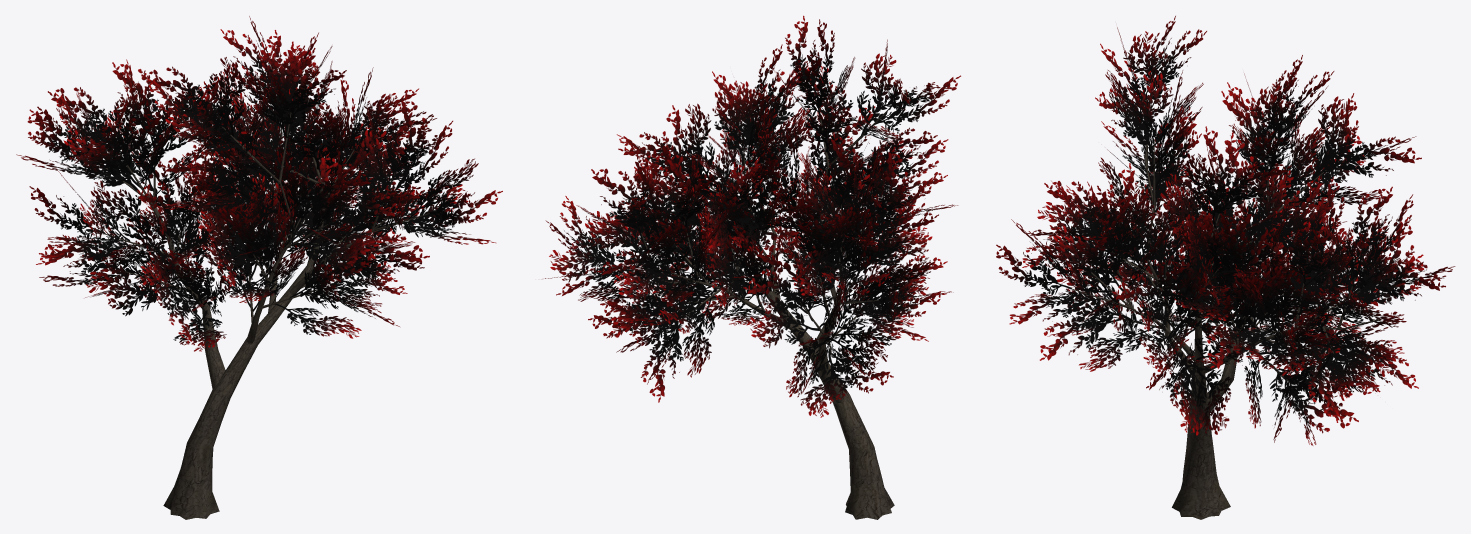
File: Hill_Top_Tree.glb
The picture shows the model from 3 angles, left to right: view 1: azimuth 30°, elevation 25°; view 2: azimuth 150°, elevation 25°; view 3: azimuth 270°, elevation 25°; orthographic projection. The views are drawn at different scales.
Parts seen in each view (by area): view 1: Canopy 1_15 - Default_0, Spline Branch E001_14 - Bark_0, Spline Branch A001_14 - Bark_0, Spline Branch B001_14 - Bark_0; view 2: Canopy 1_15 - Default_0, Spline Branch E001_14 - Bark_0, Spline Branch A001_14 - Bark_0; view 3: Canopy 1_15 - Default_0, Spline Branch E001_14 - Bark_0, Spline Branch A001_14 - Bark_0.
Boxes of the visible parts, x1,y1,x2,y2 form: Canopy 1_15 - Default_0: [16, 16, 502, 351]; Spline Branch E001_14 - Bark_0: [163, 180, 324, 519]; Spline Branch A001_14 - Bark_0: [148, 194, 225, 389]; Spline Branch B001_14 - Bark_0: [246, 158, 295, 343]; Canopy 1_15 - Default_0: [545, 15, 960, 417]; Spline Branch E001_14 - Bark_0: [744, 199, 894, 519]; Spline Branch A001_14 - Bark_0: [818, 260, 844, 403]; Canopy 1_15 - Default_0: [996, 16, 1455, 445]; Spline Branch E001_14 - Bark_0: [1172, 277, 1230, 519]; Spline Branch A001_14 - Bark_0: [1207, 210, 1278, 414].
Bounding box in the file's own units: 489 × 555 × 487.
2 materials, 2 textured.
